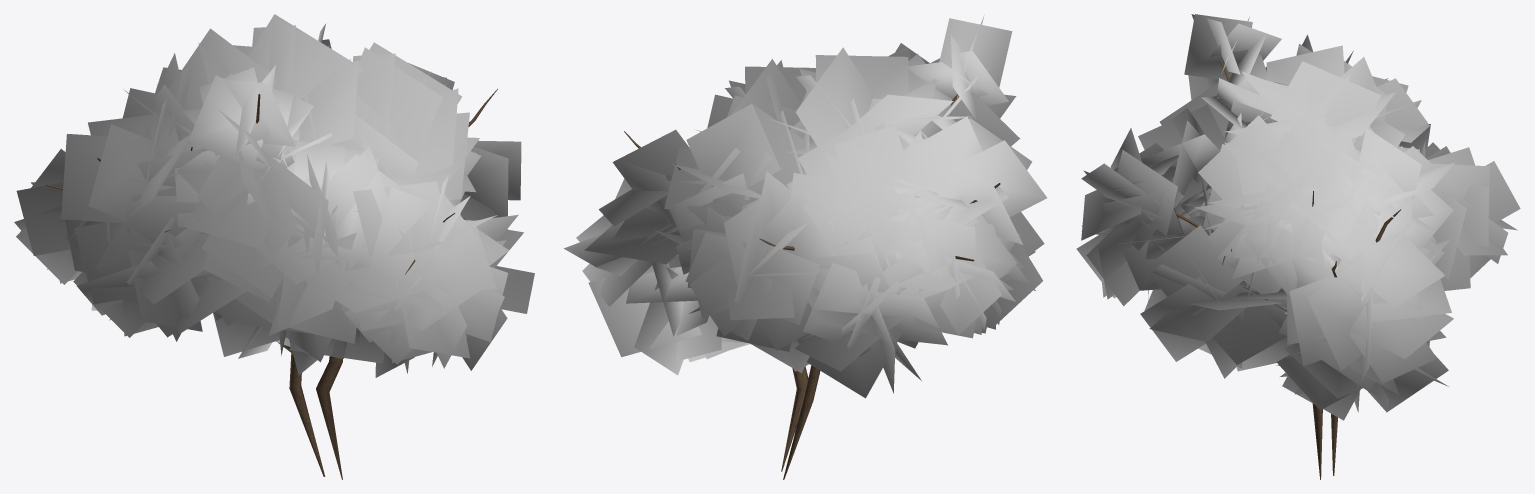
The model's file is Bush_01.fbx.
The picture shows the model from 3 angles, left to right: view 1: azimuth 30°, elevation 25°; view 2: azimuth 150°, elevation 25°; view 3: azimuth 270°, elevation 25°; orthographic projection. The views are drawn at different scales.
Visible parts, largest first — view 1: Bush_01_LOD0; view 2: Bush_01_LOD0; view 3: Bush_01_LOD0.
Boxes of the visible parts, left/top/right/bottom form: Bush_01_LOD0: left=14, top=14, right=534, bottom=479; Bush_01_LOD0: left=564, top=15, right=1046, bottom=479; Bush_01_LOD0: left=1076, top=14, right=1520, bottom=479.
Size of what is drawn, in the model's own units: 1.28 by 1.23 by 1.22.
